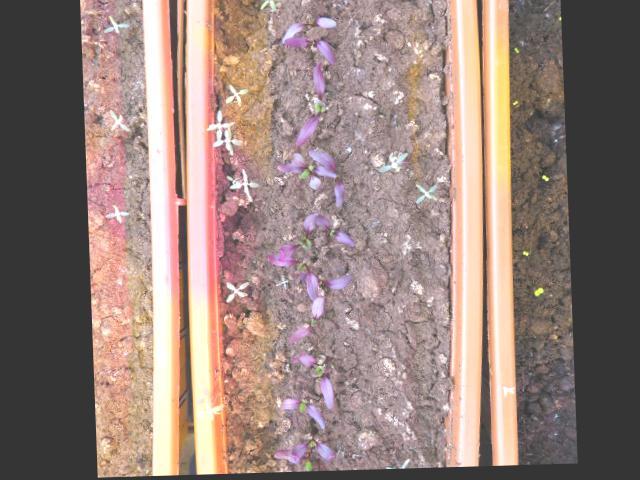weed: (101, 102, 135, 140), (218, 81, 250, 113), (97, 12, 131, 41), (216, 278, 248, 308), (406, 182, 439, 211), (101, 201, 131, 229), (376, 456, 412, 471), (254, 0, 284, 16), (527, 292, 542, 306), (514, 252, 528, 265), (534, 176, 549, 188), (507, 48, 521, 60), (97, 0, 123, 4)
